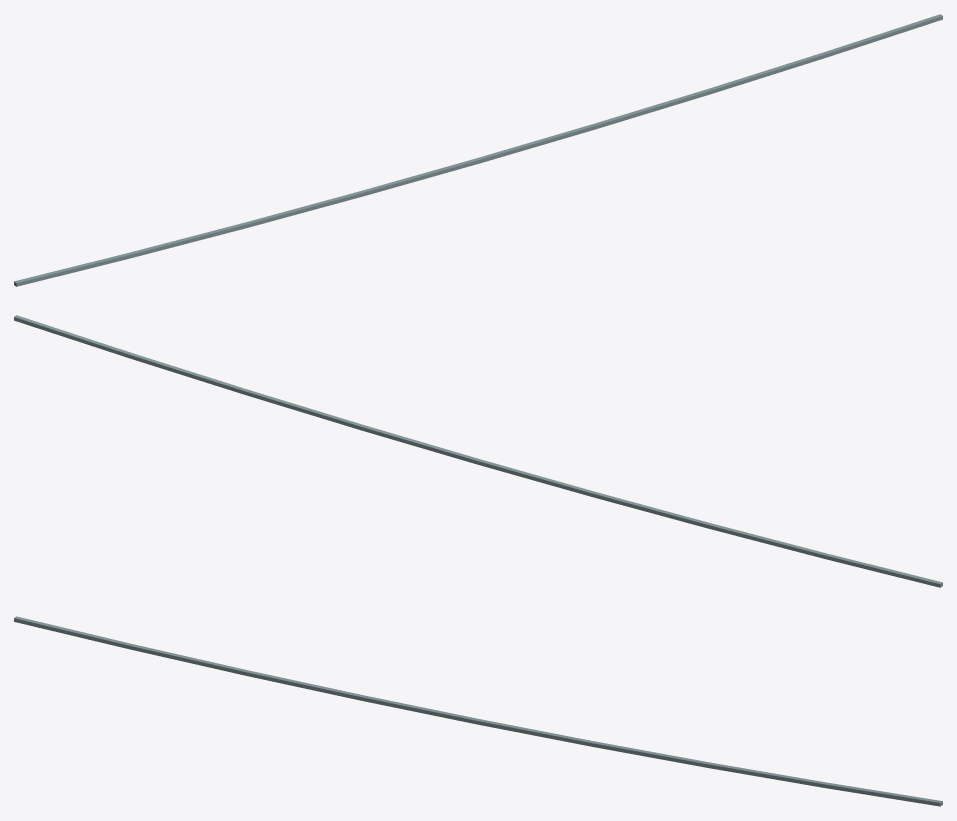
File: RoadPlan_RampParapet_2L_Rise8_L110_LowerVerticalCurve_MidRail_-1.glb
3 renders of one model, top to bottom at view 1: azimuth 30°, elevation 25°; view 2: azimuth 150°, elevation 25°; view 3: azimuth 330°, elevation 25°, orthographic.
Parts seen in each view (by area): view 1: RoadPlan_RampParapet_2L_Rise8_L110_LowerVerticalCurve_MidRai; view 2: RoadPlan_RampParapet_2L_Rise8_L110_LowerVerticalCurve_MidRai; view 3: RoadPlan_RampParapet_2L_Rise8_L110_LowerVerticalCurve_MidRai.
Boxes of the visible parts, x1=… form: RoadPlan_RampParapet_2L_Rise8_L110_LowerVerticalCurve_MidRai: x1=14, y1=14, x2=942, y2=286; RoadPlan_RampParapet_2L_Rise8_L110_LowerVerticalCurve_MidRai: x1=14, y1=315, x2=942, y2=587; RoadPlan_RampParapet_2L_Rise8_L110_LowerVerticalCurve_MidRai: x1=14, y1=616, x2=942, y2=806.
Bounding box in the file's own units: 16 × 0.7409 × 0.075.
